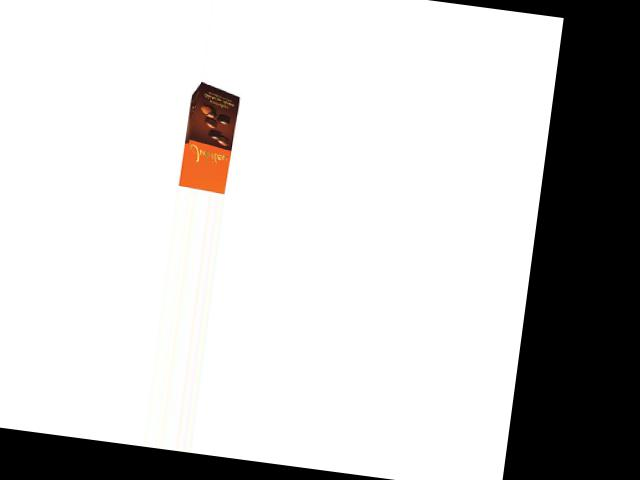chocolate: (176, 81, 247, 194)
